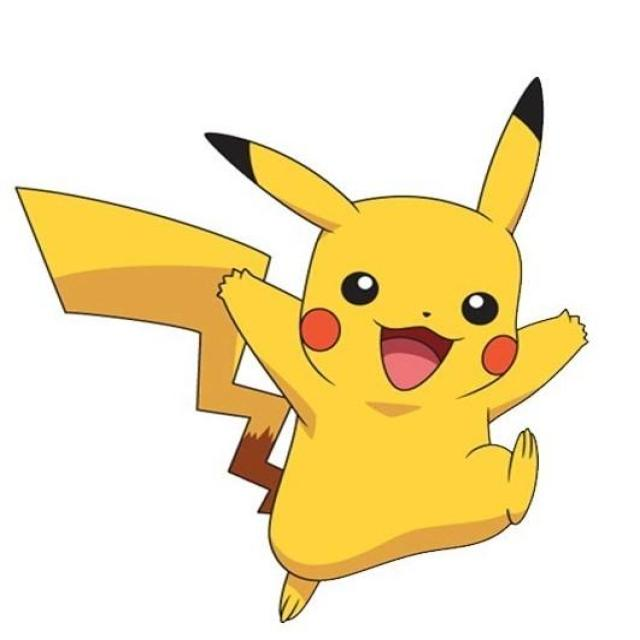pikachu: (32, 74, 590, 623)
